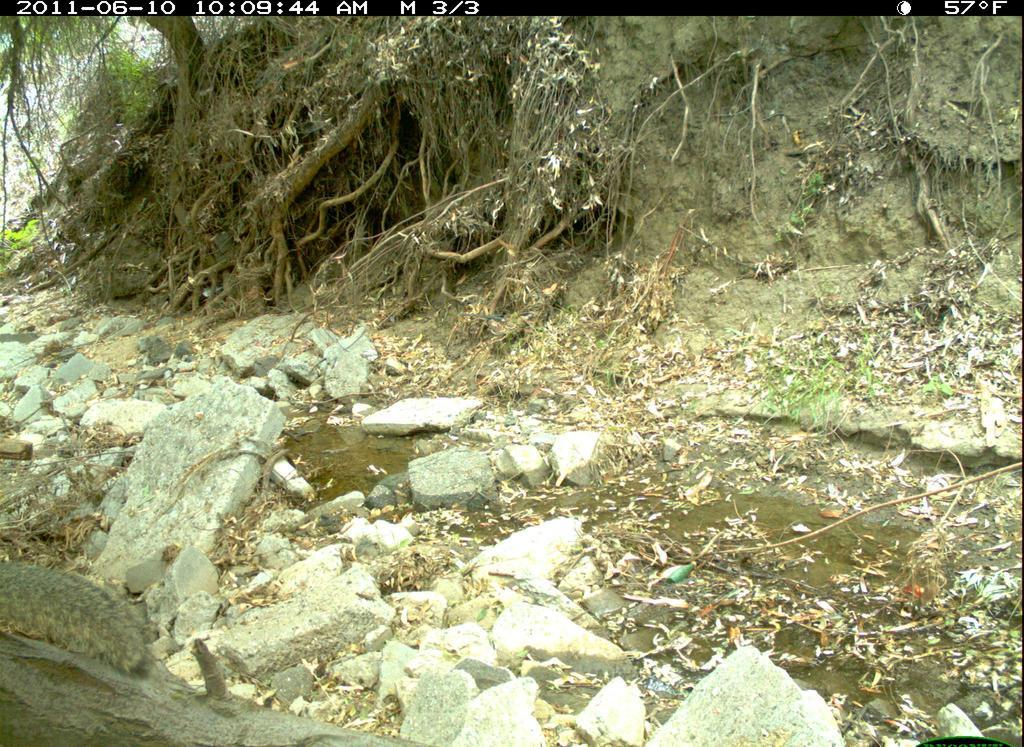squirrel: (4, 556, 163, 679)
